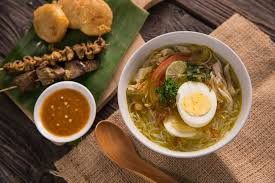soto: (113, 28, 263, 154)
